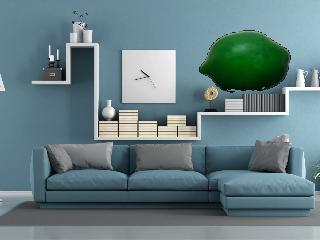lime: (197, 27, 294, 93)
